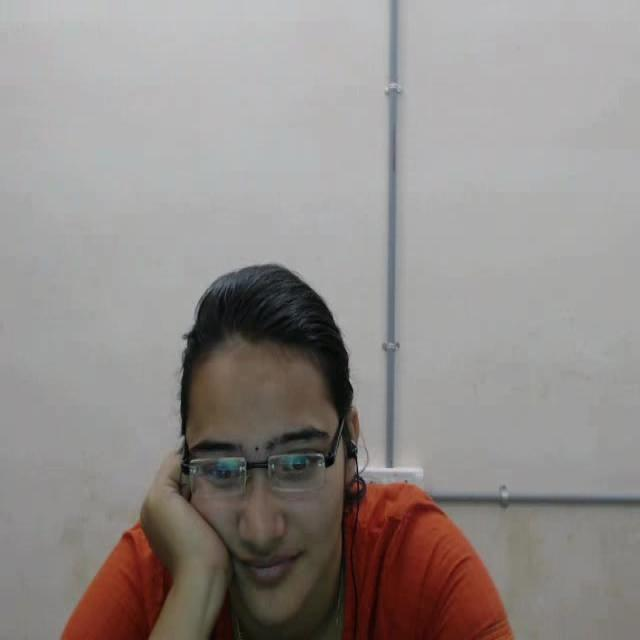Bored: (138, 245, 369, 640)
